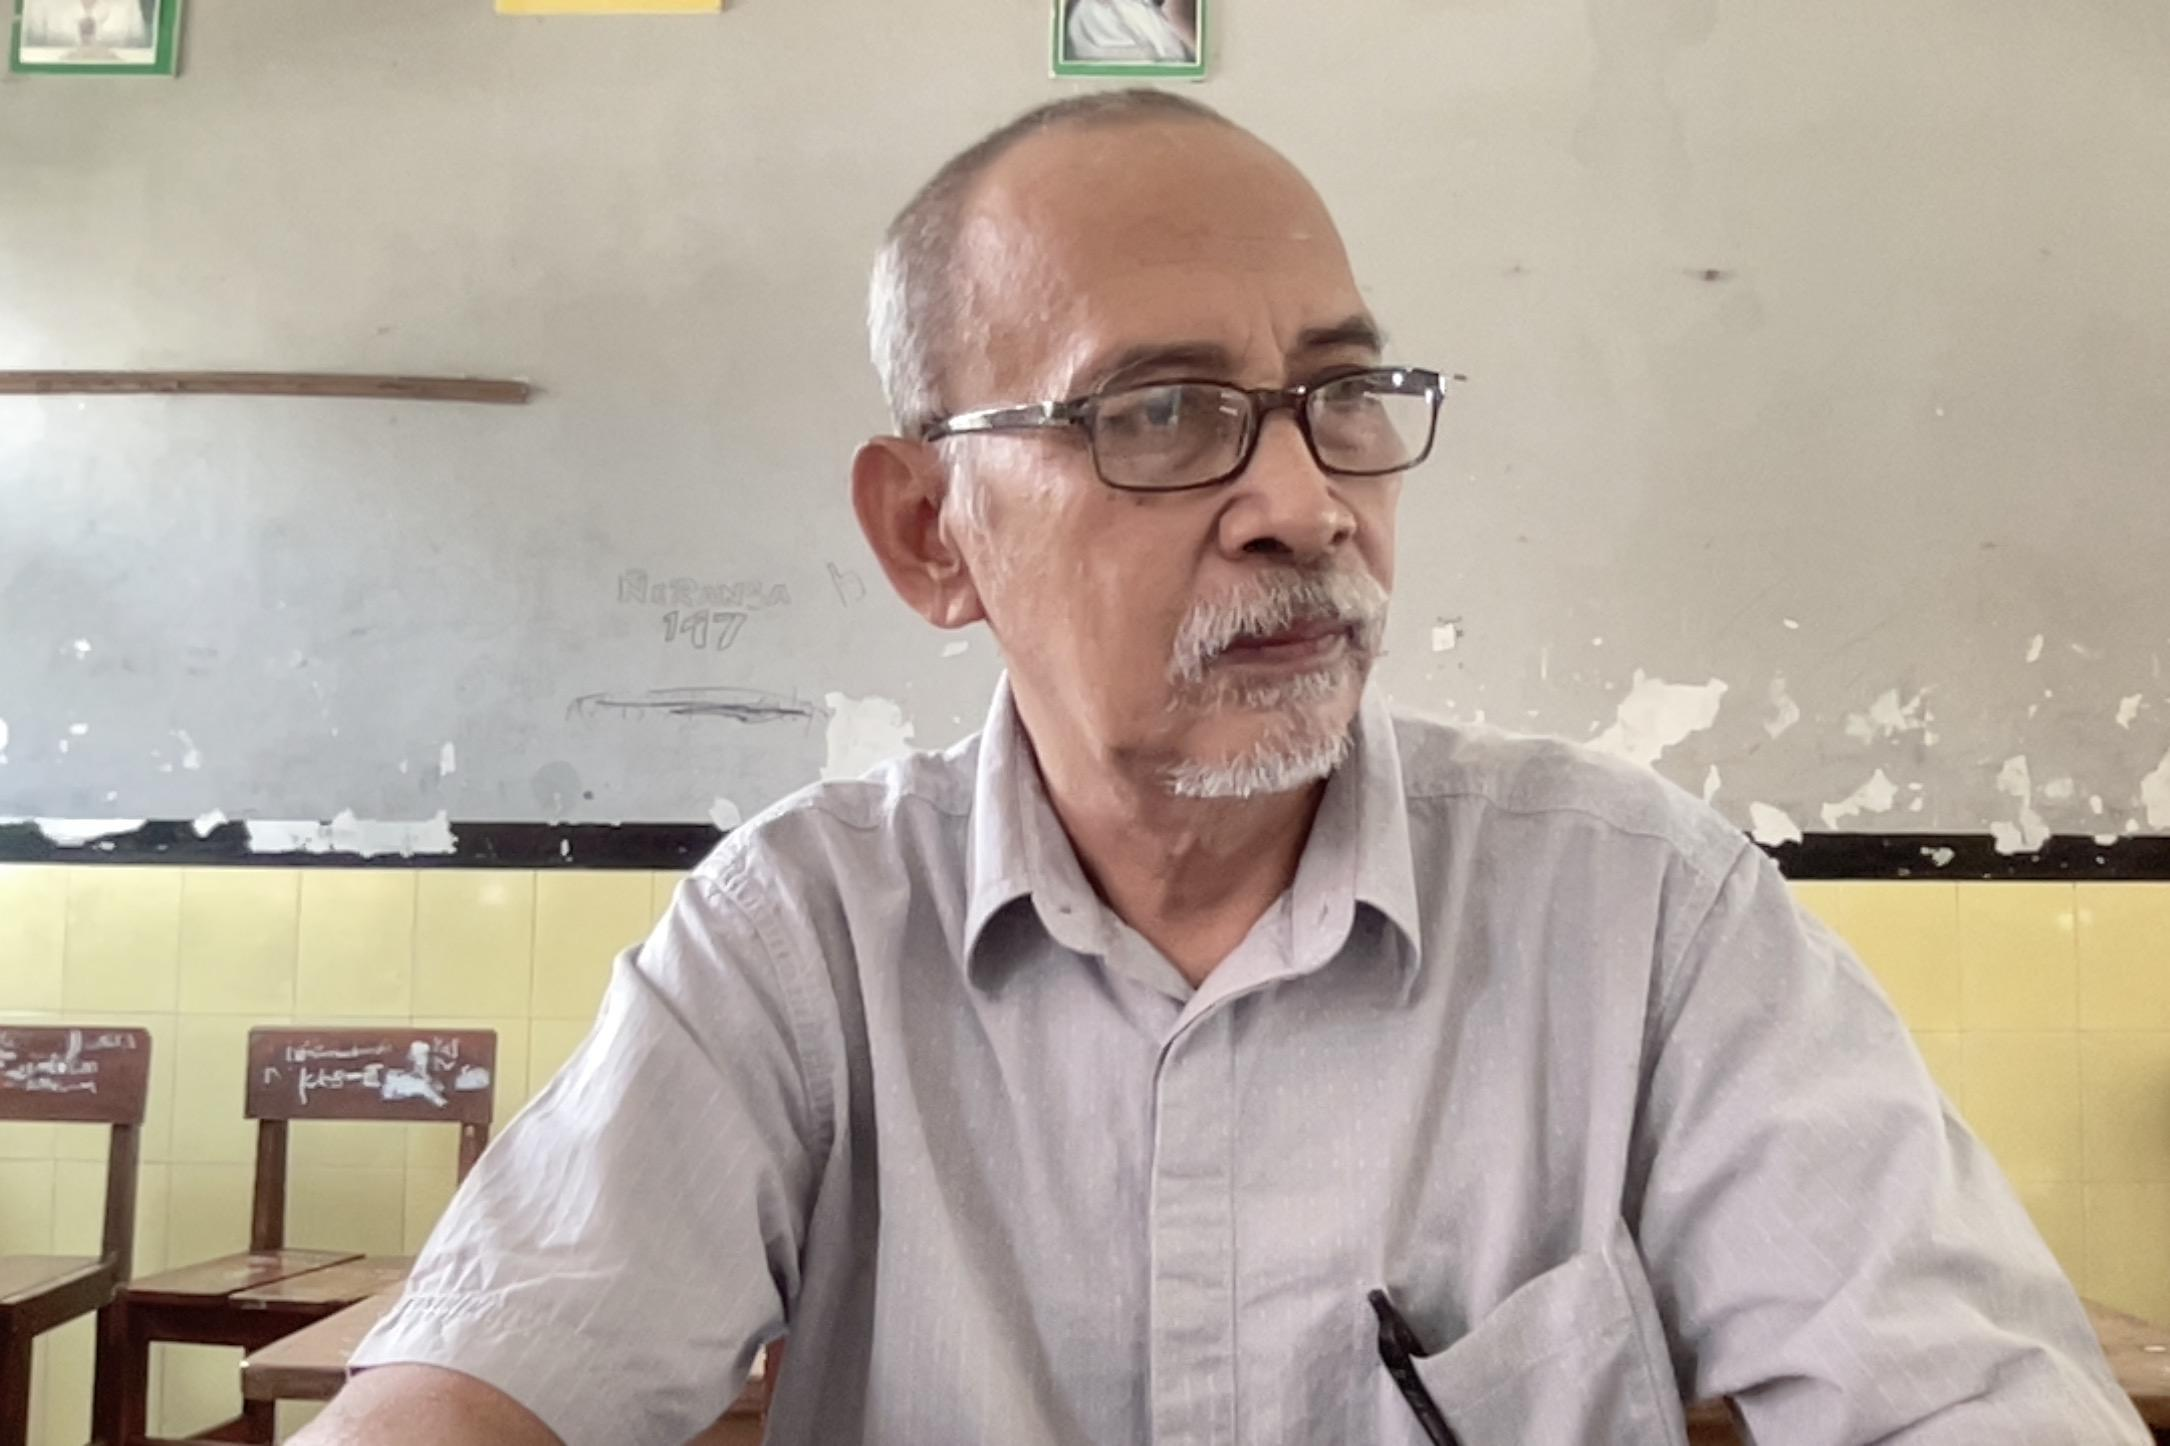cheating: (781, 58, 1517, 1017)
